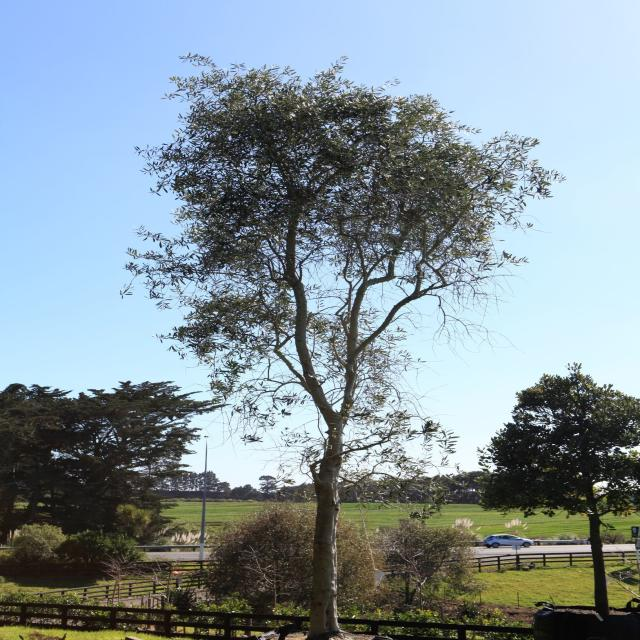Olea nabali: (168, 69, 501, 509)
